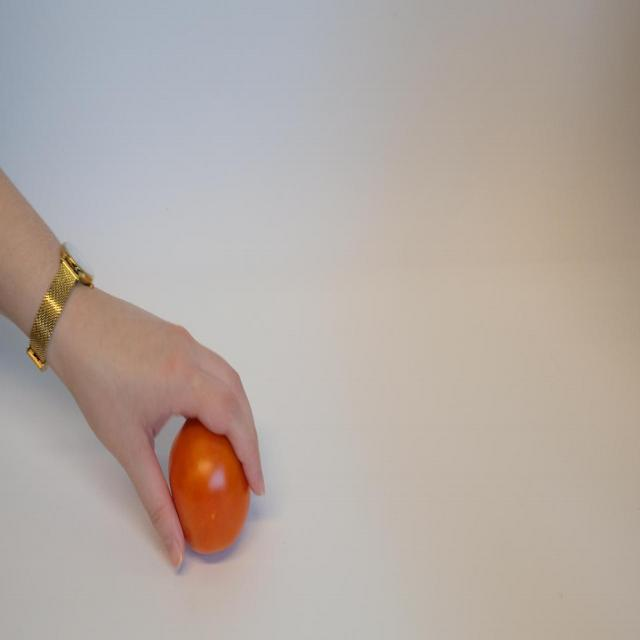tomato: (168, 414, 252, 556)
